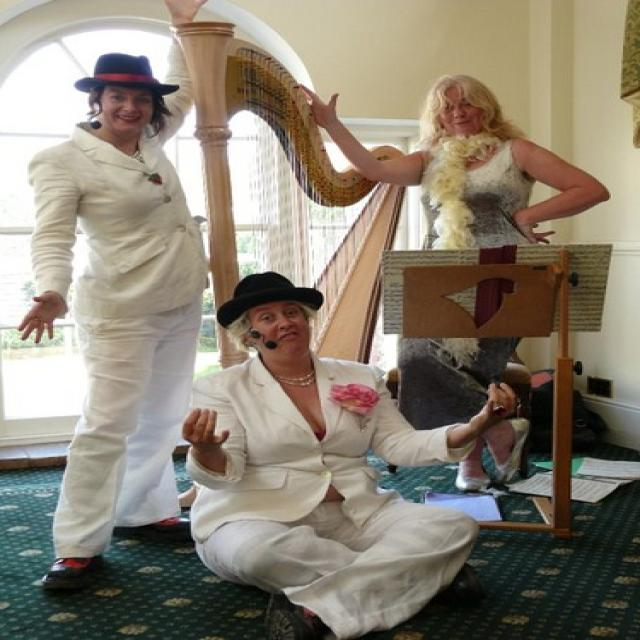harp: (162, 18, 419, 374)
